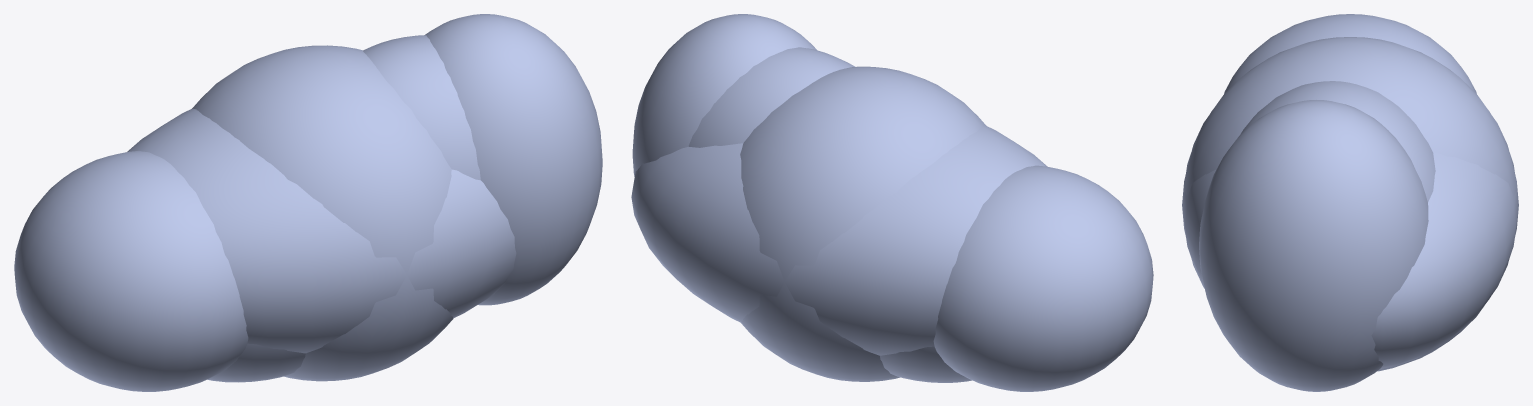
File: measurement-phantoms.glb
The picture shows the model from 3 angles, left to right: view 1: azimuth 30°, elevation 25°; view 2: azimuth 150°, elevation 25°; view 3: azimuth 270°, elevation 25°; orthographic projection. The views are drawn at different scales.
Visible parts, largest first — view 1: adjacent_0, sphere_0, ellipsoid_0, adjacent_1, lobulated_1, lobulated_0; view 2: ellipsoid_0, adjacent_0, sphere_0, adjacent_1, lobulated_1, lobulated_0; view 3: adjacent_1, sphere_0, ellipsoid_0, adjacent_0, lobulated_1.
Boxes of the visible parts, x1,y1,x2,y2 form: adjacent_0: (14, 151, 248, 391); sphere_0: (192, 45, 453, 381); ellipsoid_0: (127, 108, 516, 353); adjacent_1: (424, 14, 602, 305); lobulated_1: (363, 35, 480, 180); lobulated_0: (207, 343, 305, 382); ellipsoid_0: (631, 126, 1047, 355); adjacent_0: (933, 165, 1153, 391); sphere_0: (740, 66, 986, 381); adjacent_1: (632, 14, 816, 176); lobulated_1: (688, 47, 855, 147); lobulated_0: (880, 346, 971, 382); adjacent_1: (1199, 100, 1428, 391); sphere_0: (1182, 37, 1518, 371); ellipsoid_0: (1182, 110, 1518, 369); adjacent_0: (1224, 14, 1476, 93); lobulated_1: (1240, 81, 1435, 201).
Size of the model in its own units: 0.037 by 0.021 by 0.02.
